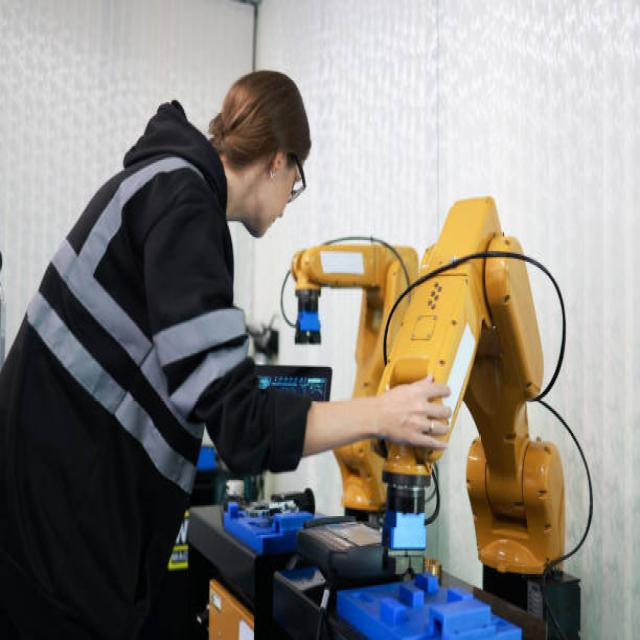Robotic-arm: (376, 193, 584, 577), (284, 237, 420, 499)
